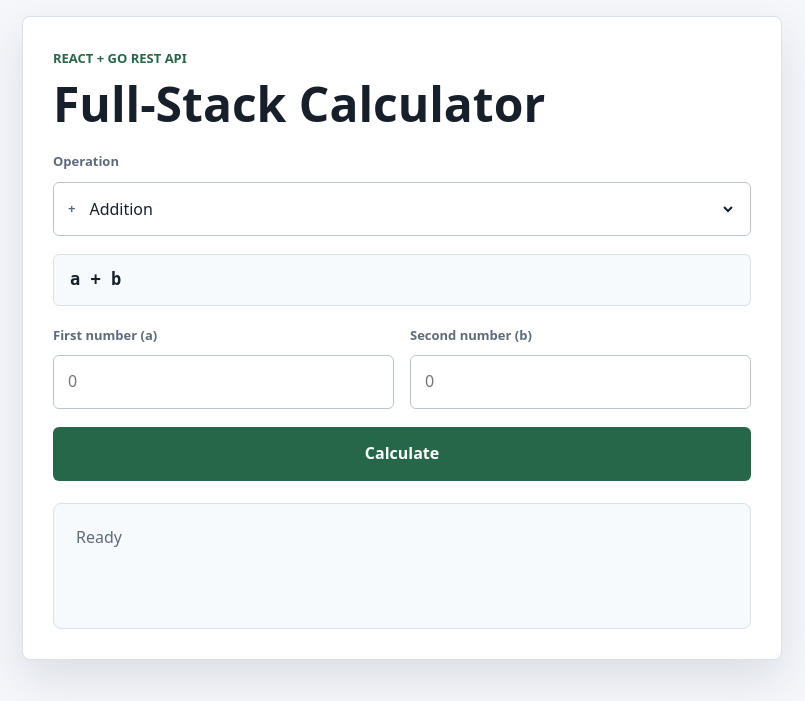
Test: App › displays a friendly message when the API cannot be reached
This screenshot has width=805, height=701.
Type "10" into the number field labelled "First number (a)" at [224, 382], box [53, 355, 394, 409]
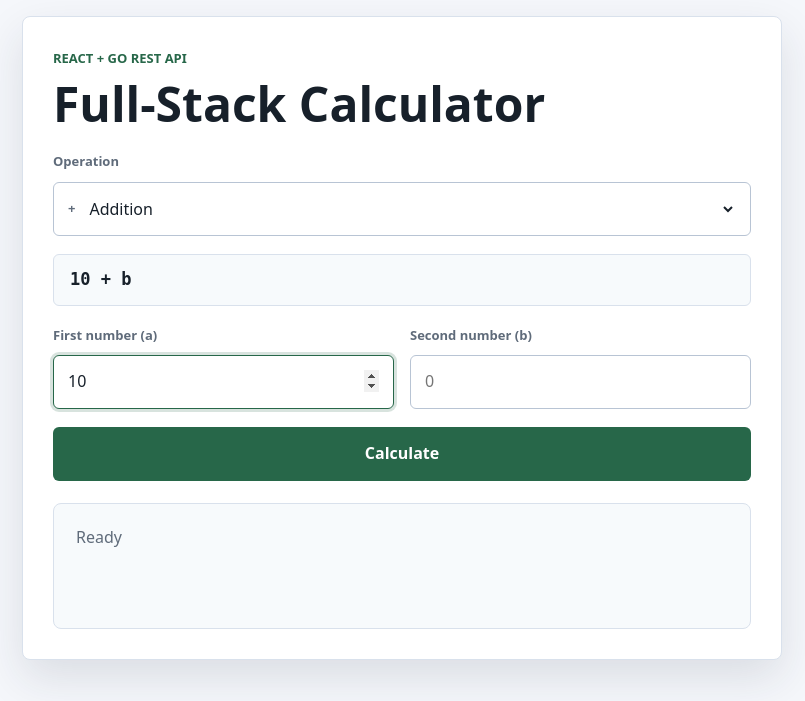
Type "5" into the number field labelled "Second number (b)" at [580, 382], box [410, 355, 751, 409]
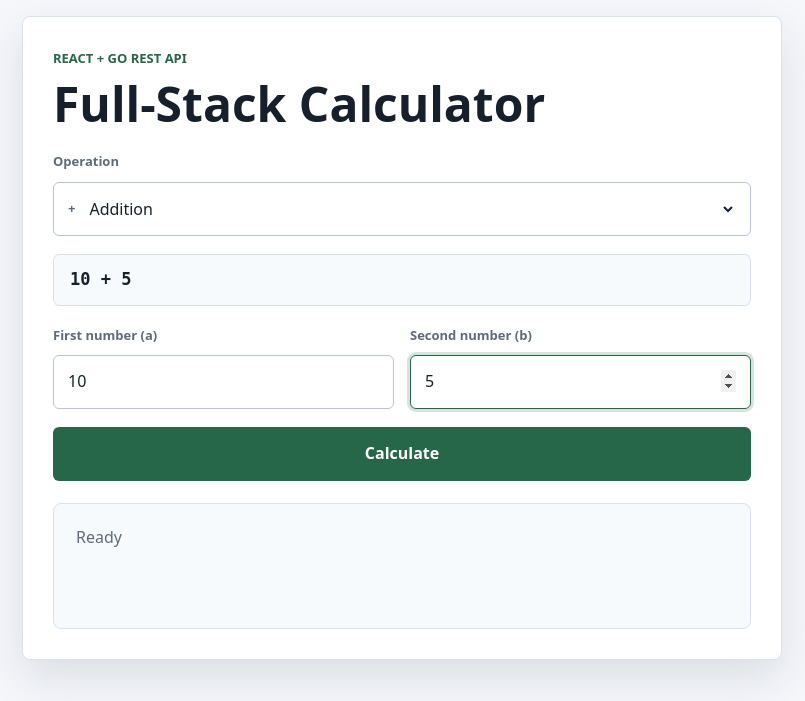
Click the button "Calculate" at [402, 454], box [53, 427, 751, 481]
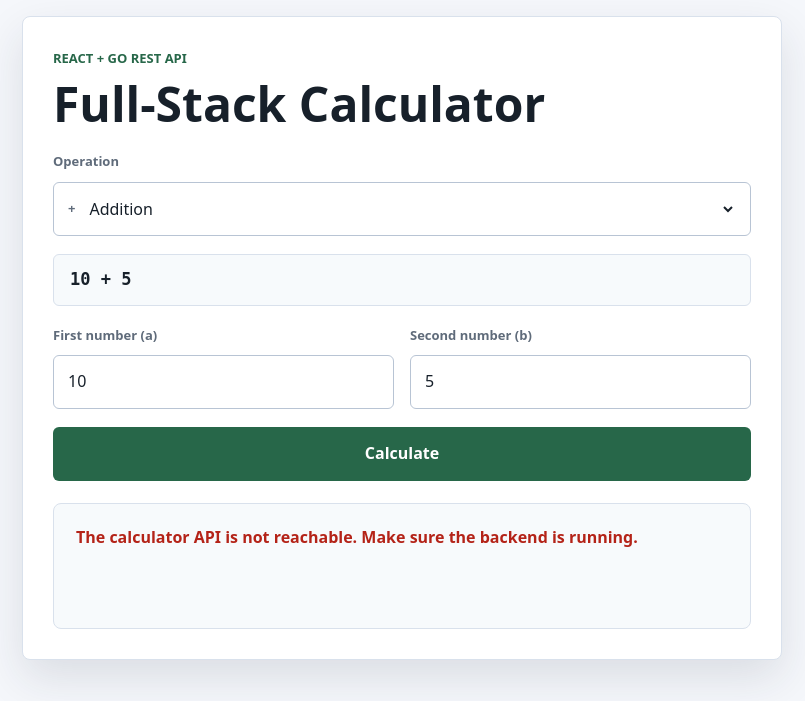
Expected: the text "The calculator API is not reachable. Make sure the backend is running." is shown, [76, 526, 638, 548]
